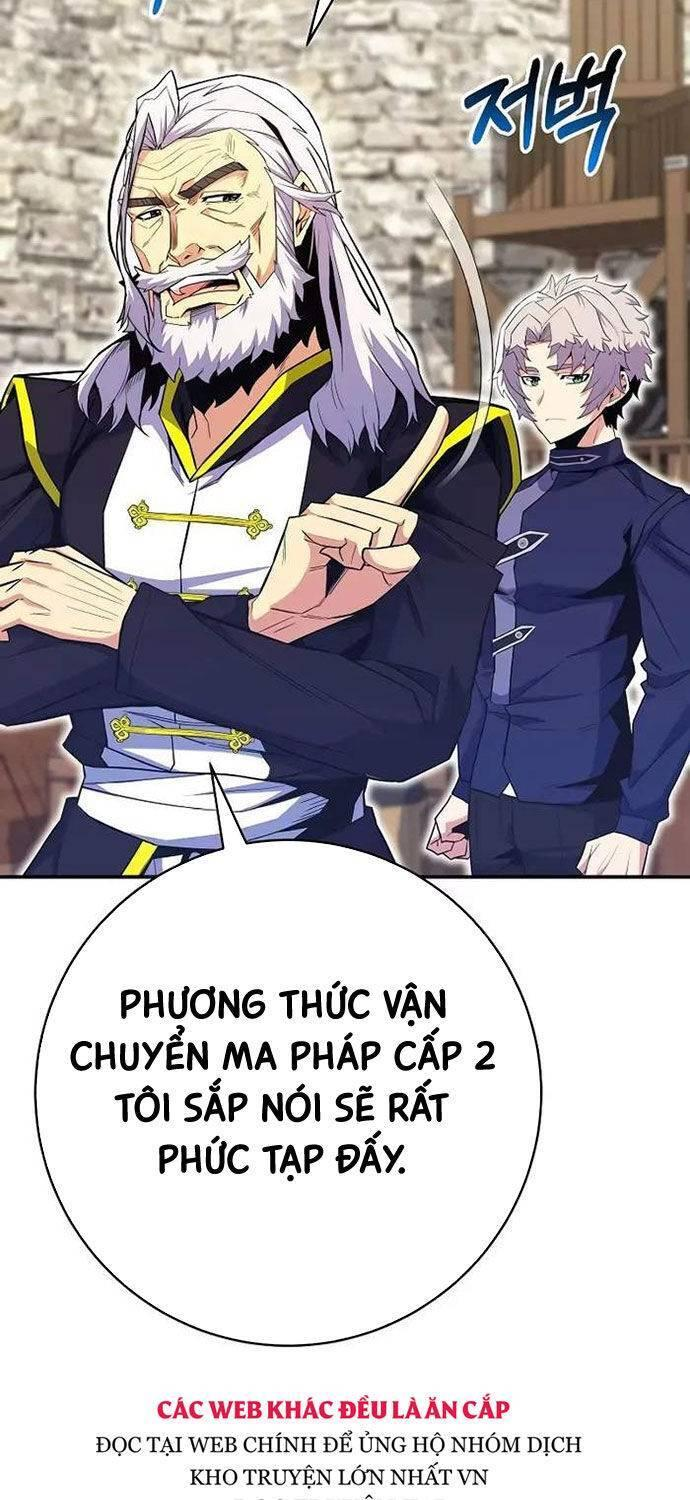quangcao: (74, 1382, 592, 1500)
